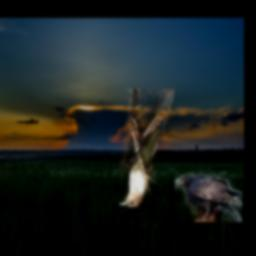Crow: (176, 175, 243, 223)
Cuckoo: (119, 90, 174, 208)
